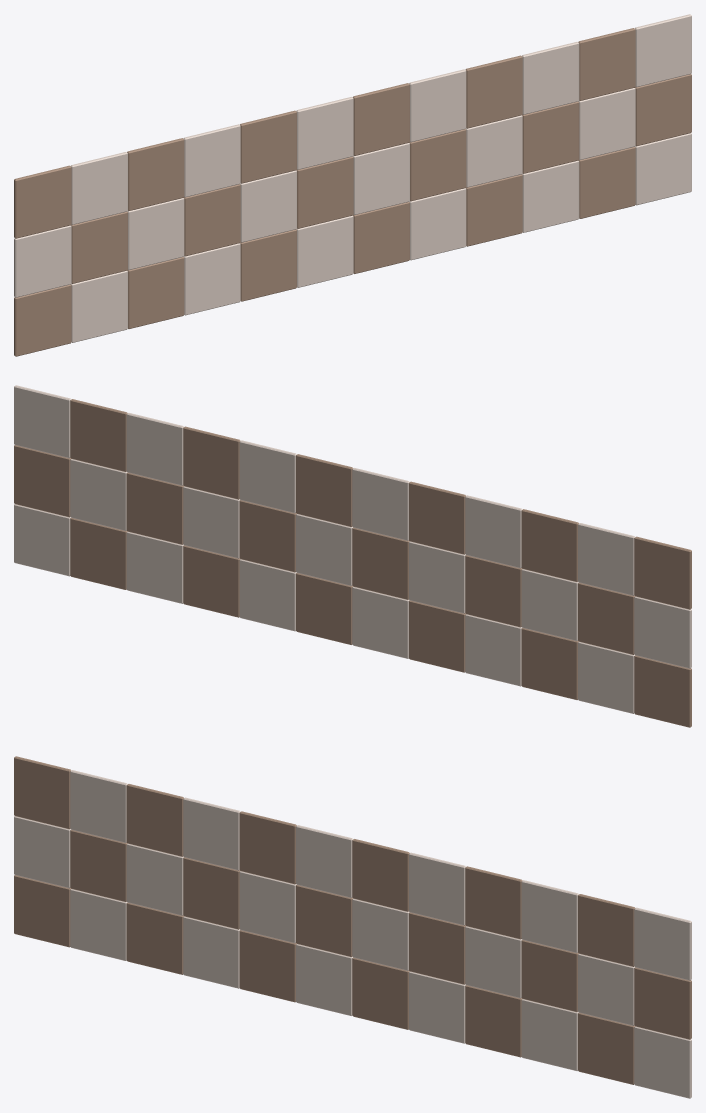
Rendered from Tile_4.glb.
3 views of the same model, one above another, from view 1: azimuth 30°, elevation 25°; view 2: azimuth 150°, elevation 25°; view 3: azimuth 330°, elevation 25° (orthographic).
Visible parts, largest first — view 1: Tile_4; view 2: Tile_4; view 3: Tile_4.
Part boxes in pixels (<box>): Tile_4: <box>14,14,691,356</box>; Tile_4: <box>14,385,691,727</box>; Tile_4: <box>14,756,691,1098</box>.
Bounding box in the file's own units: 3.13 × 0.7818 × 0.016.
1 material, 1 textured.
